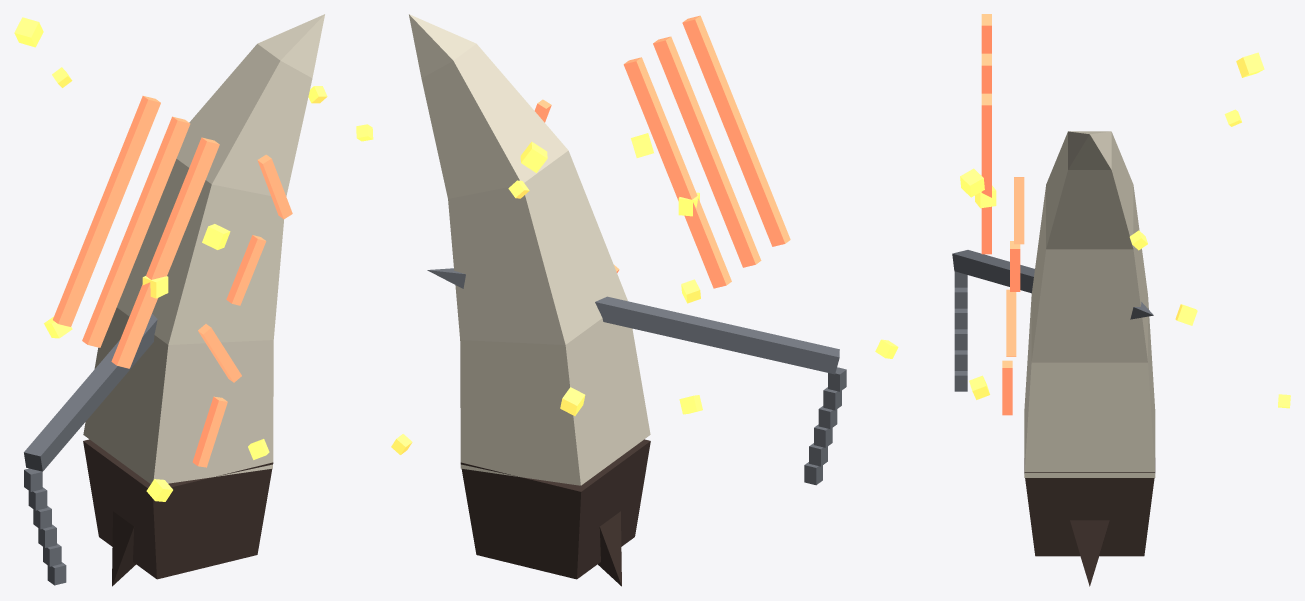
The picture shows the model from 3 angles, left to right: view 1: azimuth 30°, elevation 25°; view 2: azimuth 150°, elevation 25°; view 3: azimuth 270°, elevation 25°; orthographic projection. The views are drawn at different scales.
Visible parts, largest first — view 1: R052_Main, R052_Accent, R052_Aura_Slashes, R052_Trim, R052_Glow, R052_Aura_Embers; view 2: R052_Main, R052_Accent, R052_Aura_Slashes, R052_Trim, R052_Aura_Embers; view 3: R052_Main, R052_Accent, R052_Trim, R052_Aura_Embers, R052_Glow, R052_Aura_Slashes.
Part boxes in pixels (x1,y1,x2,y2): R052_Main: [83, 14, 324, 483]; R052_Accent: [83, 439, 273, 586]; R052_Aura_Slashes: [53, 96, 219, 368]; R052_Trim: [24, 313, 157, 585]; R052_Glow: [192, 154, 292, 467]; R052_Aura_Embers: [14, 17, 327, 501]; R052_Main: [409, 14, 650, 485]; R052_Accent: [460, 439, 650, 586]; R052_Aura_Slashes: [623, 15, 790, 288]; R052_Trim: [427, 268, 846, 485]; R052_Aura_Embers: [356, 124, 702, 454]; R052_Main: [1024, 131, 1155, 477]; R052_Accent: [1024, 458, 1155, 586]; R052_Trim: [952, 250, 1153, 391]; R052_Aura_Embers: [875, 52, 1290, 408]; R052_Glow: [1002, 177, 1024, 415]; R052_Aura_Slashes: [981, 14, 991, 254].
Bounding box in the file's own units: 1.65 × 2.15 × 1.62.
